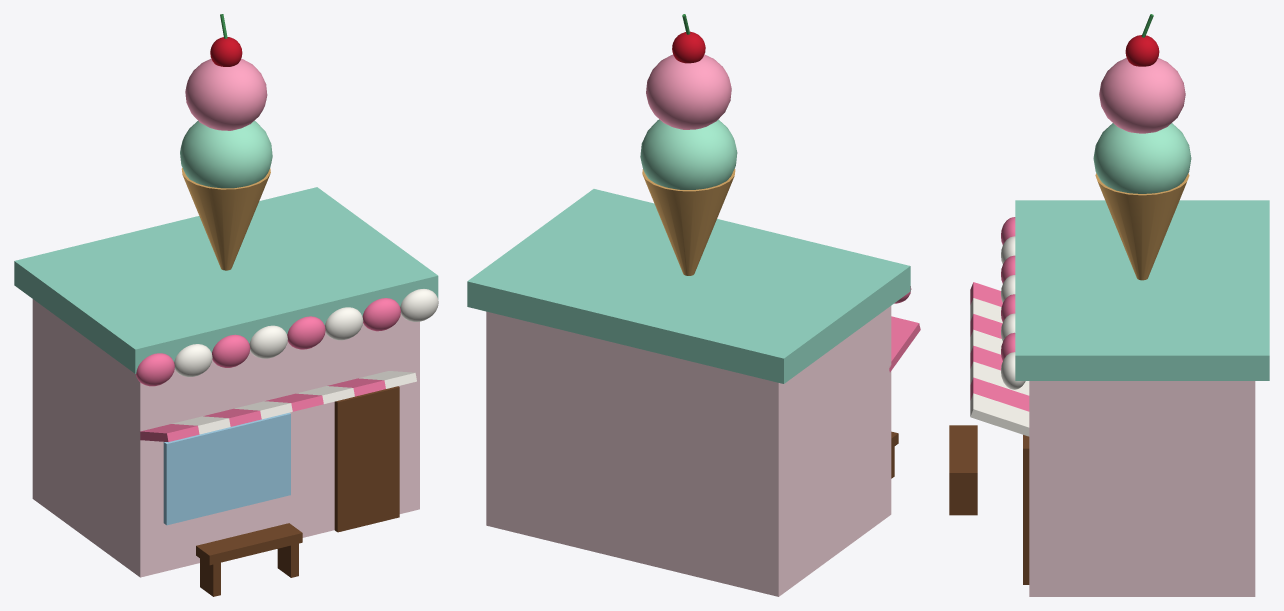
The model's file is Ice_L11.fbx.
3 views of the same model, side by side, from view 1: azimuth 30°, elevation 25°; view 2: azimuth 150°, elevation 25°; view 3: azimuth 270°, elevation 25° (orthographic). The views are drawn at different scales.
Visible parts, largest first — view 1: I11_Walls, I11_Roof, I11_Window, I11_Door, I11_Scallop (×8), I11_SignScoop1, I11_SignScoop2, I11_SignCone, I11_Bench, I11_BenchLeg (×2), I11_Awning_1, I11_Cherry (+7 smaller); view 2: I11_Walls, I11_Roof, I11_SignScoop1, I11_SignScoop2, I11_SignCone, I11_Awning_1, I11_Cherry; view 3: I11_Walls, I11_Roof, I11_SignScoop1, I11_SignScoop2, I11_SignCone, I11_Bench, I11_Awning_8, I11_Door, I11_Awning_7, I11_BenchLeg, I11_Cherry, I11_Awning_6 (+6 smaller).
Part boxes in pixels (x1,y1,x2,y2): I11_Walls: [32, 299, 419, 577]; I11_Roof: [14, 187, 438, 373]; I11_Window: [163, 412, 290, 525]; I11_Door: [334, 386, 399, 532]; I11_Scallop (×8): [136, 289, 438, 386]; I11_SignScoop1: [180, 121, 272, 188]; I11_SignScoop2: [185, 58, 267, 130]; I11_SignCone: [181, 168, 270, 270]; I11_Bench: [196, 523, 302, 565]; I11_BenchLeg (×2): [200, 543, 298, 596]; I11_Awning_1: [140, 424, 199, 441]; I11_Cherry: [210, 37, 242, 66]; I11_Walls: [486, 306, 891, 596]; I11_Roof: [467, 189, 910, 383]; I11_SignScoop1: [640, 119, 737, 189]; I11_SignScoop2: [646, 54, 731, 129]; I11_SignCone: [642, 169, 735, 275]; I11_Awning_1: [889, 316, 920, 372]; I11_Cherry: [672, 31, 705, 63]; I11_Walls: [1029, 381, 1255, 596]; I11_Roof: [1015, 200, 1269, 380]; I11_SignScoop1: [1093, 123, 1191, 193]; I11_SignScoop2: [1099, 58, 1185, 133]; I11_SignCone: [1095, 173, 1189, 280]; I11_Bench: [949, 425, 977, 483]; I11_Awning_8: [970, 393, 1029, 436]; I11_Door: [1023, 435, 1029, 584]; I11_Awning_7: [970, 377, 1029, 411]; I11_BenchLeg: [949, 483, 977, 515]; I11_Cherry: [1125, 35, 1159, 66]; I11_Awning_6: [970, 361, 1029, 395].
Bounding box in the file's own units: 39 × 59.88 × 34.
